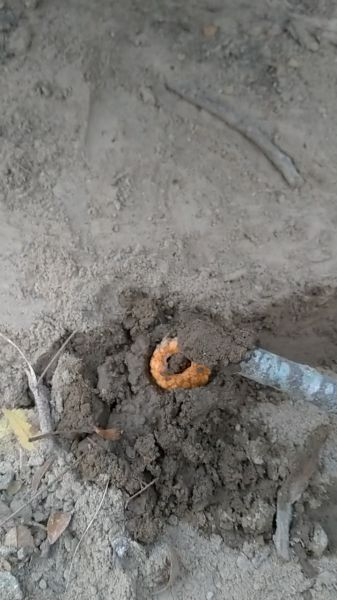eggs: (144, 332, 217, 395)
